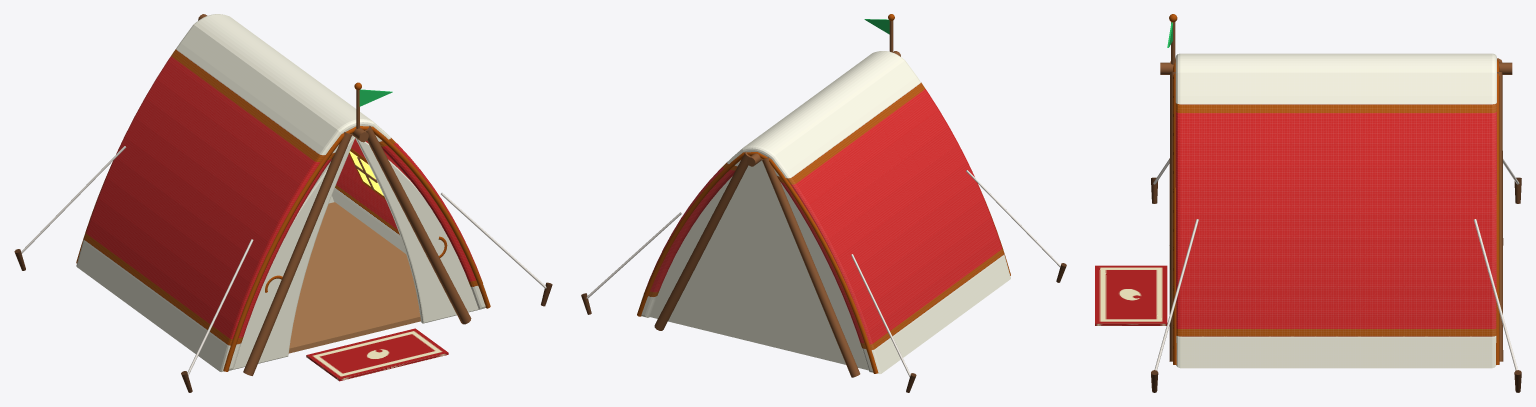
File: tent.glb
3 views of the same model, side by side, from view 1: azimuth 30°, elevation 25°; view 2: azimuth 150°, elevation 25°; view 3: azimuth 270°, elevation 25° (orthographic). The views are drawn at different scales.
Visible parts, largest first — view 1: Tent_Canopy, Tent_Interior_Floor, Tent_Door_Flap_Right, Tent_Door_Flap_Left, Front_A_Frame_Poles, Tent_Entrance_Welcome_Mat, Tent_Front_Piping, Tent_Guy_Rope_1; view 2: Tent_Canopy, Tent_Back_Wall, Back_A_Frame_Poles, Tent_Back_Piping; view 3: Tent_Canopy, Tent_Entrance_Welcome_Mat, Back_A_Frame_Poles, Front_A_Frame_Poles, Tent_Back_Piping, Tent_Front_Piping, Tent_Guy_Rope_2, Tent_Guy_Rope_4.
Part boxes in pixels (<box>): Tent_Canopy: <box>76,14,486,371</box>; Tent_Interior_Floor: <box>288,202,420,353</box>; Tent_Door_Flap_Right: <box>355,137,478,323</box>; Tent_Door_Flap_Left: <box>230,135,355,370</box>; Front_A_Frame_Poles: <box>243,126,471,375</box>; Tent_Entrance_Welcome_Mat: <box>306,328,448,381</box>; Tent_Front_Piping: <box>223,126,490,371</box>; Tent_Guy_Rope_1: <box>187,239,253,375</box>; Tent_Canopy: <box>641,51,1010,373</box>; Tent_Back_Wall: <box>650,160,868,370</box>; Back_A_Frame_Poles: <box>654,152,860,377</box>; Tent_Back_Piping: <box>637,152,878,373</box>; Tent_Canopy: <box>1175,53,1496,368</box>; Tent_Entrance_Welcome_Mat: <box>1095,265,1167,325</box>; Back_A_Frame_Poles: <box>1497,58,1503,361</box>; Front_A_Frame_Poles: <box>1169,58,1175,361</box>; Tent_Back_Piping: <box>1496,59,1499,364</box>; Tent_Front_Piping: <box>1173,60,1176,364</box>; Tent_Guy_Rope_2: <box>1154,219,1198,370</box>; Tent_Guy_Rope_4: <box>1474,219,1517,370</box>.
Size of the model in its own units: 4.01 by 2.76 by 3.66.
10 materials, 2 textured.
